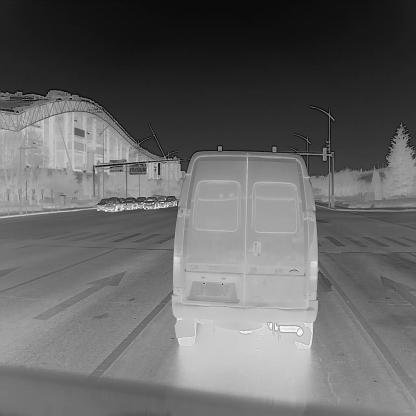car: (174, 148, 317, 348), (103, 196, 123, 212), (121, 197, 138, 211), (96, 198, 110, 212), (143, 197, 159, 209), (156, 195, 169, 208), (166, 195, 177, 206), (136, 197, 146, 209), (117, 195, 126, 204)
